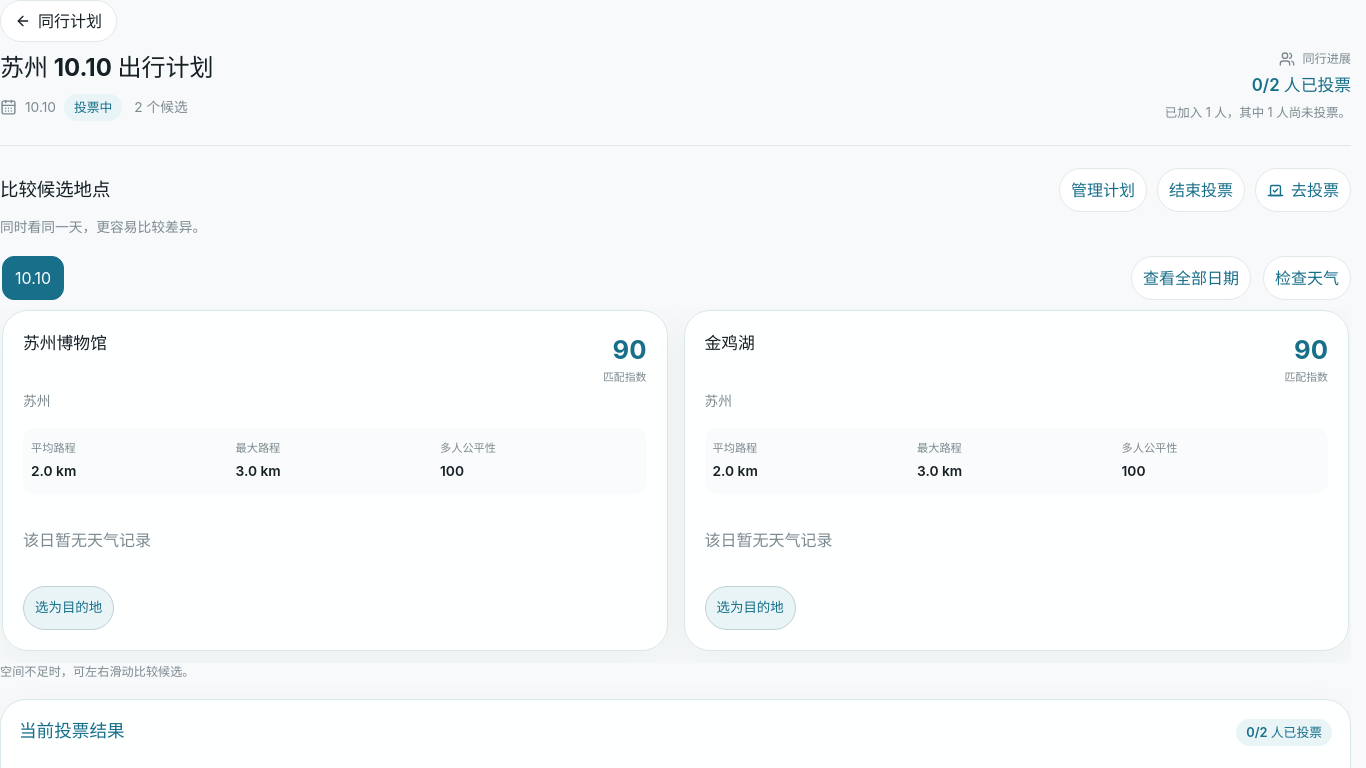
Test: floating voting keeps an unsubmitted choice when dismissed and submits explicitly
Click the button "去投票".
click(1303, 190)  # box [1255,168,1351,212]
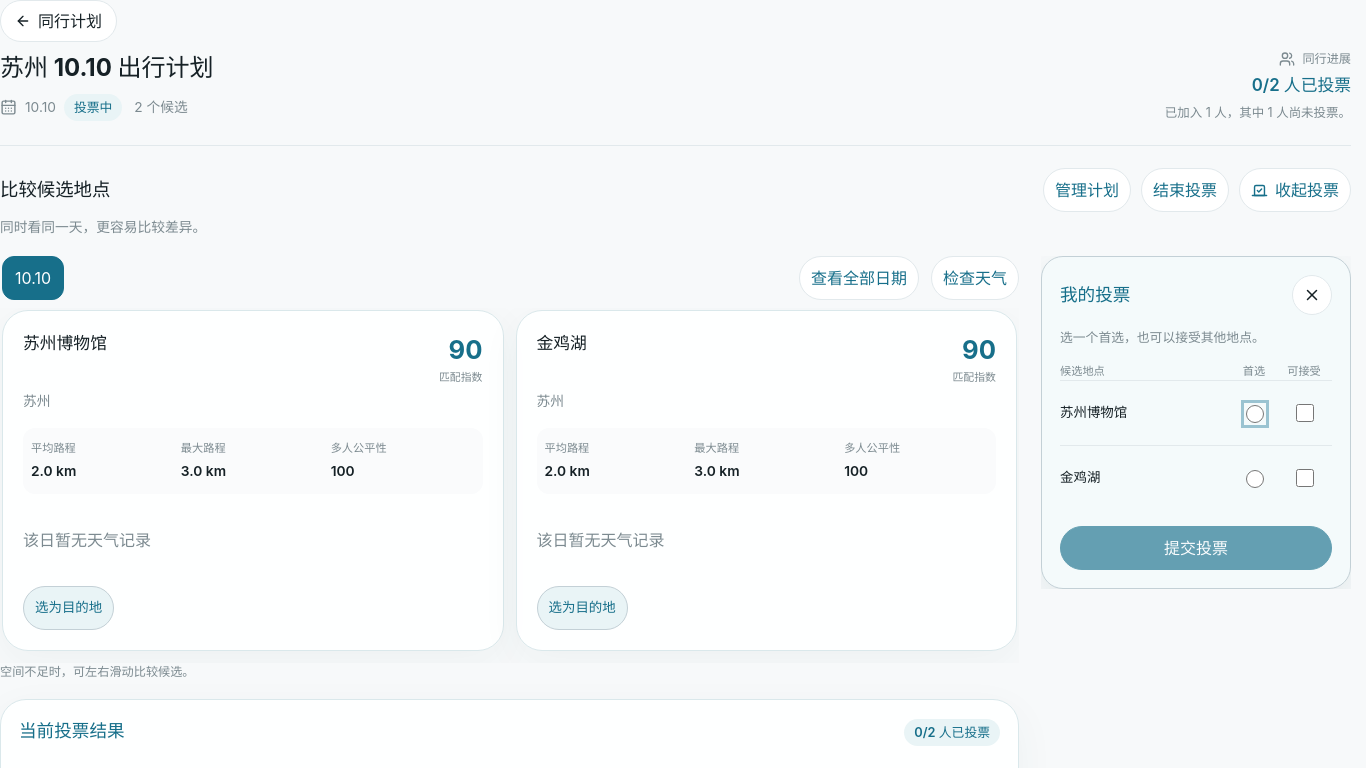
Click the radio button named "首选 金鸡湖".
click(1255, 479)  # box [1246,470,1264,488]
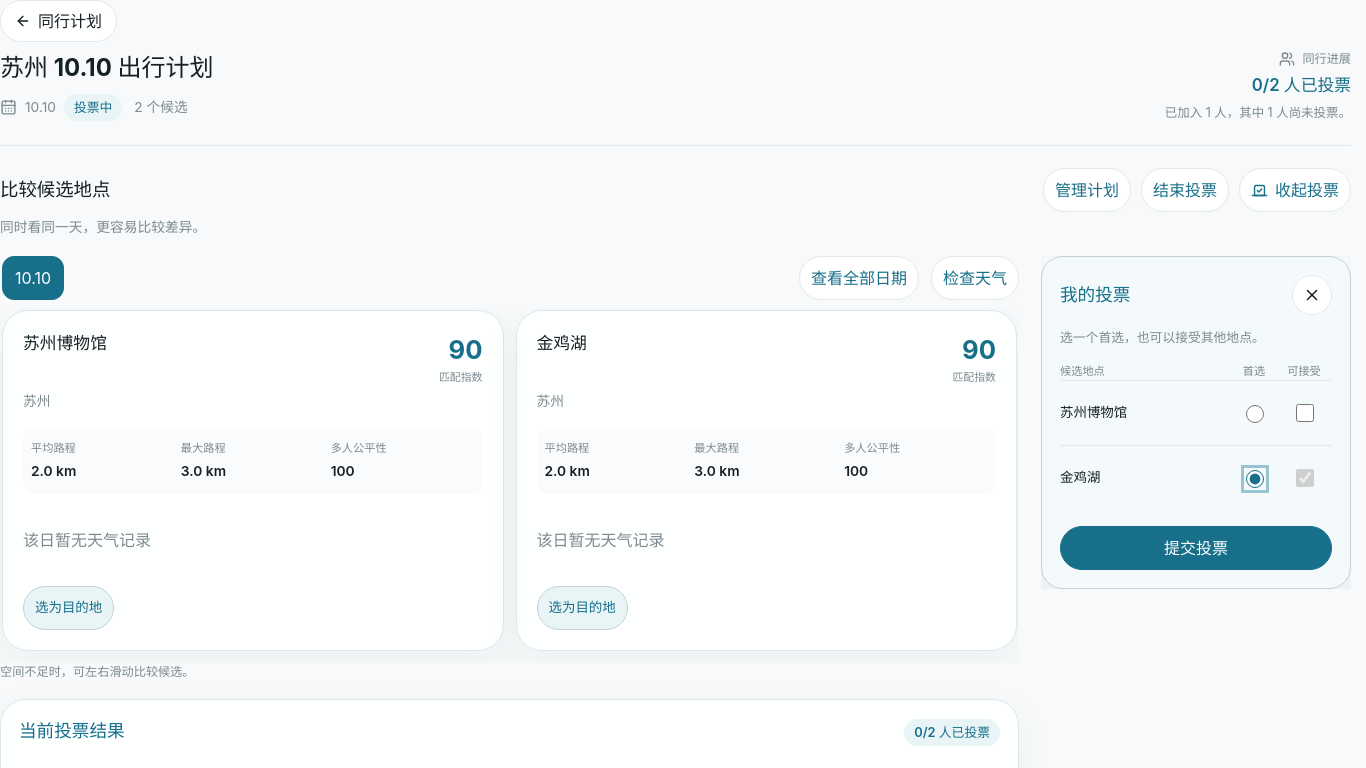
Press Escape
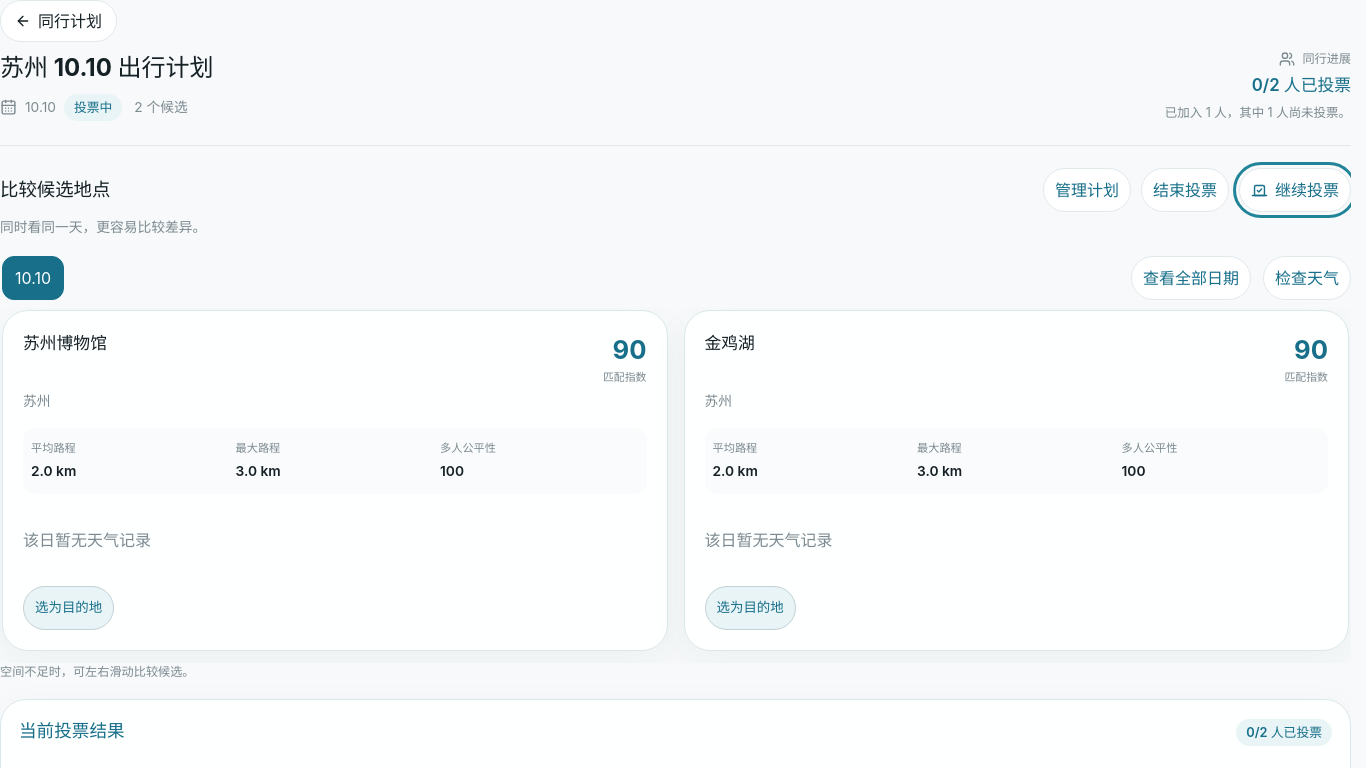
Click the button "继续投票".
click(1295, 190)  # box [1239,168,1351,212]
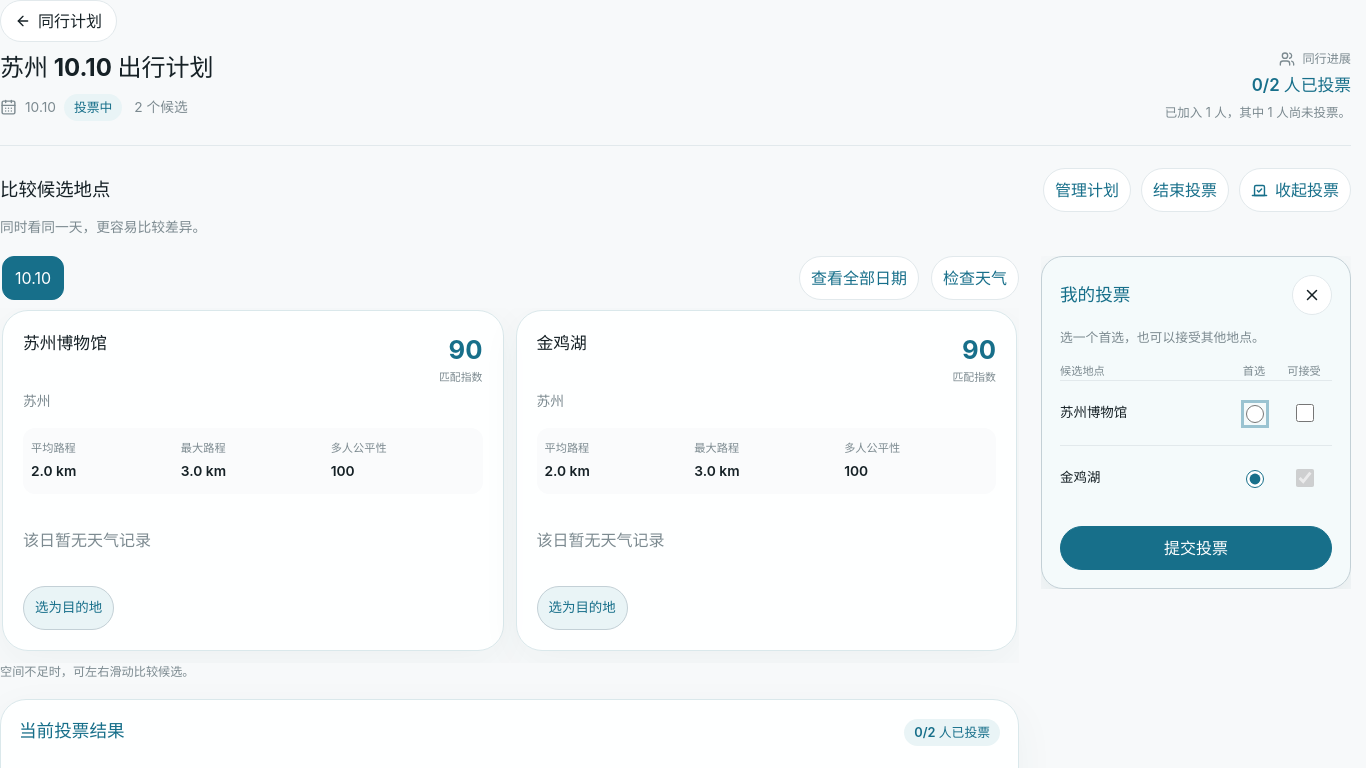
Check: the radio button named "首选 金鸡湖" is checked, box [1246,470,1264,488]
Click the button "提交投票".
click(1196, 548)  # box [1060,526,1332,570]
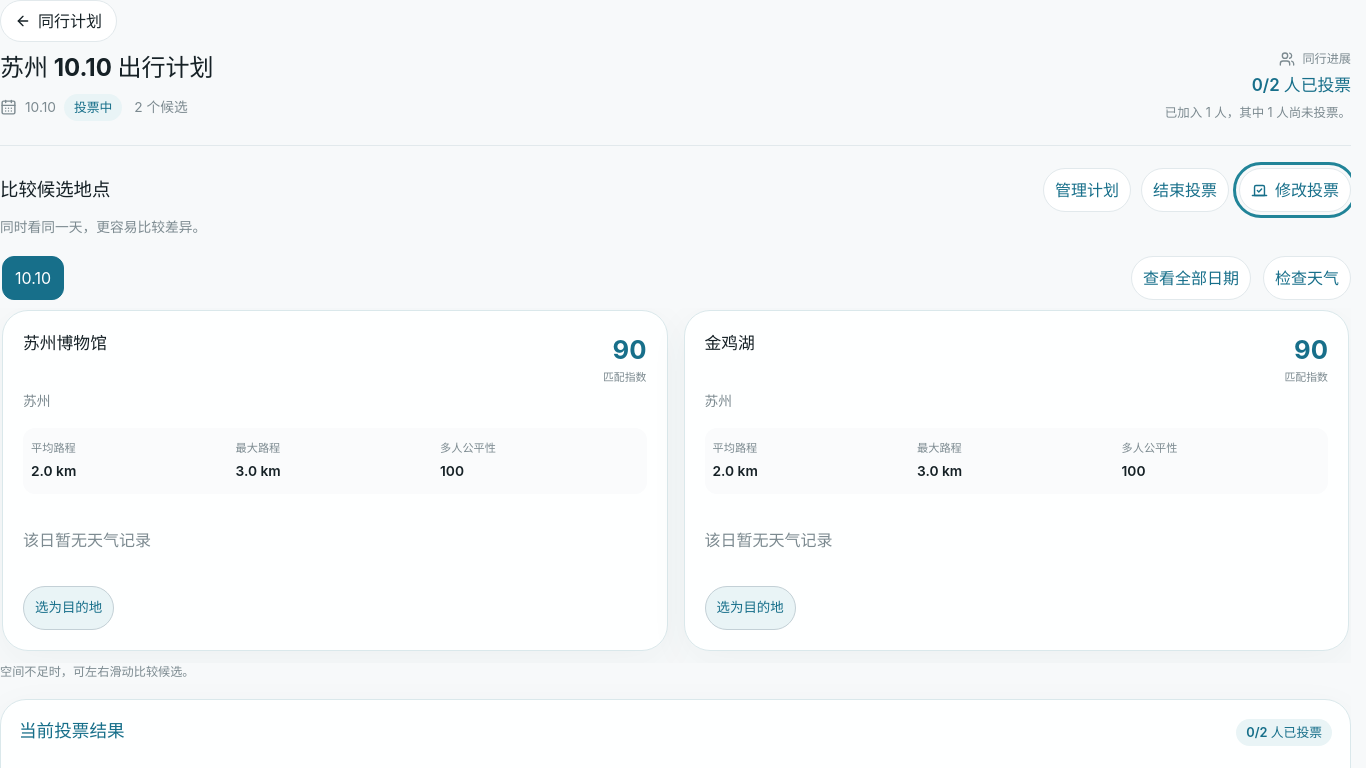
Check: the button "修改投票" is shown, box [1239,168,1351,212]
Check: the heading "我的投票" is gone
